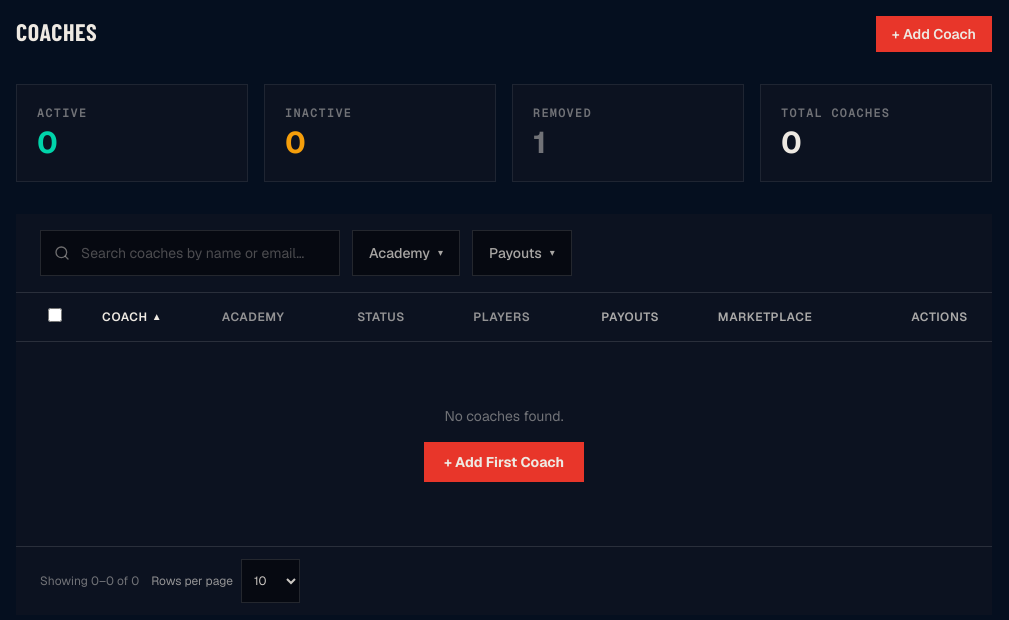
Test case: CoachesClient › a removed coach shows under the Removed filter with a Reinstate action, and nothing else
Expected: the text "No coaches found." is shown, [444,407,563,425]
Expected: the text "Coach Dan" is not shown
Click the button "Removed 1": (628, 133) [512,84,744,182]
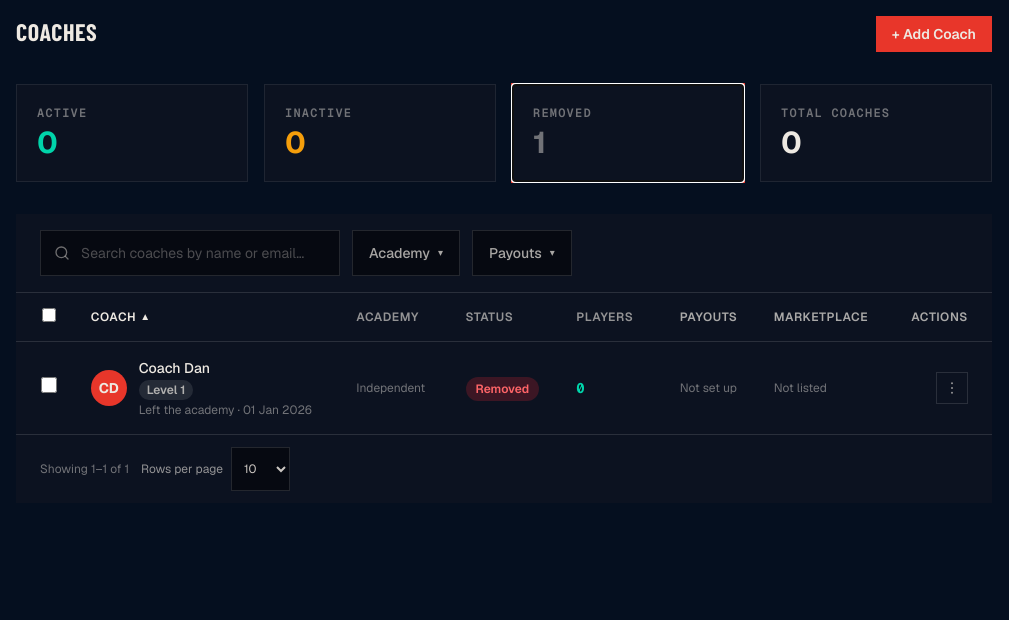
Expected: the text "Coach Dan" is shown, [139,358,210,378]
Expected: the text "Left the academy · 01 Jan 2026" is shown, [139,402,312,418]
Click the button named "More actions": (952, 388) [936,372,968,404]
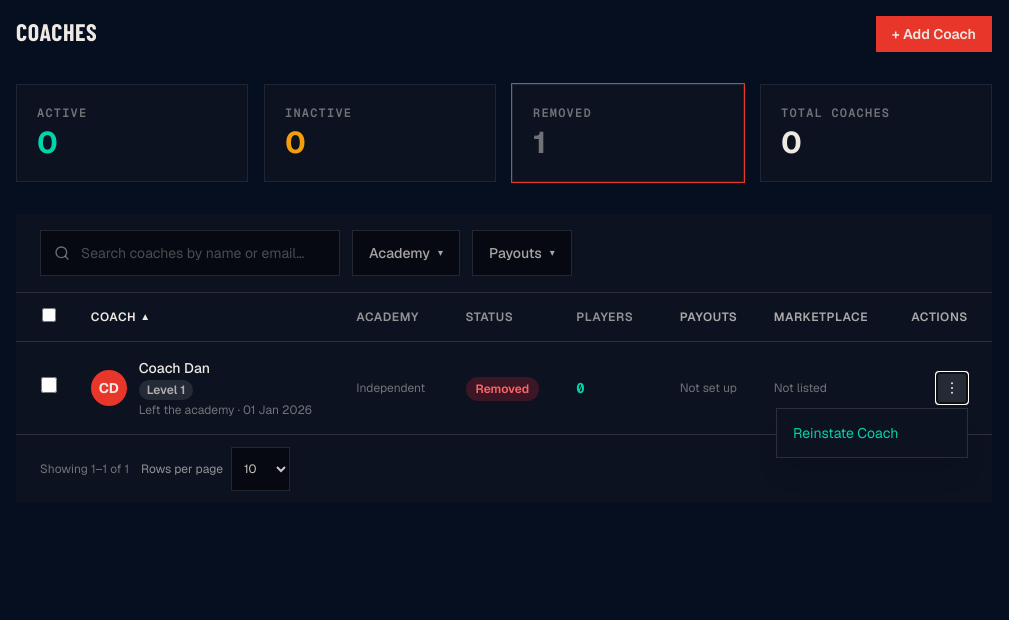
Expected: the button "Reinstate Coach" is shown, [777,413,967,453]
